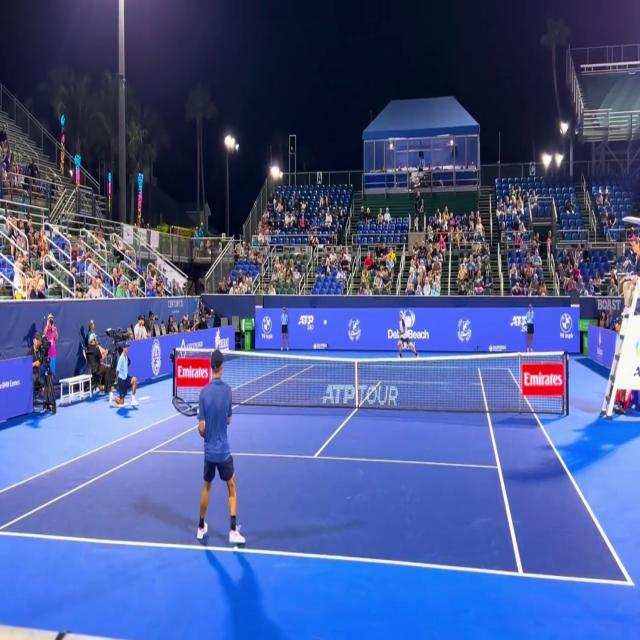tennisBall: (322, 316, 328, 330)
